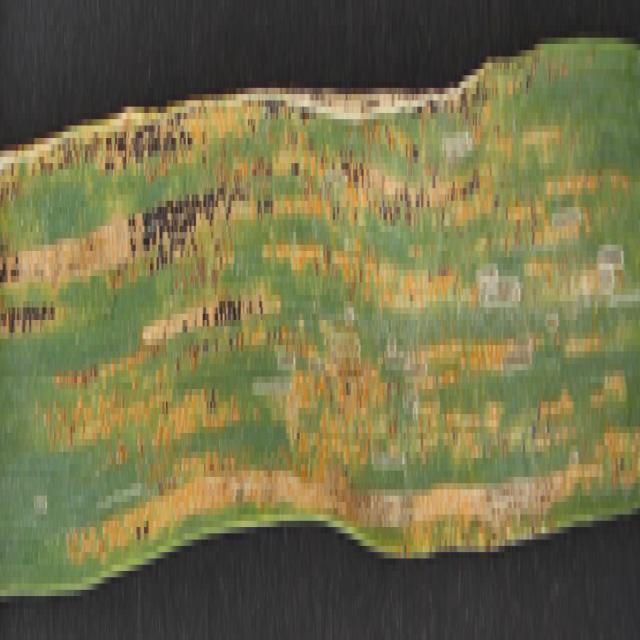leaf rust: (19, 119, 640, 577)
